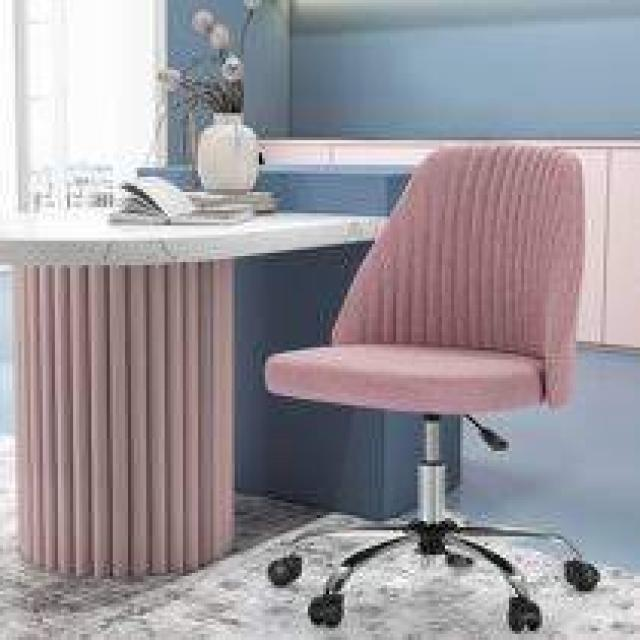chair: (173, 132, 640, 640)
